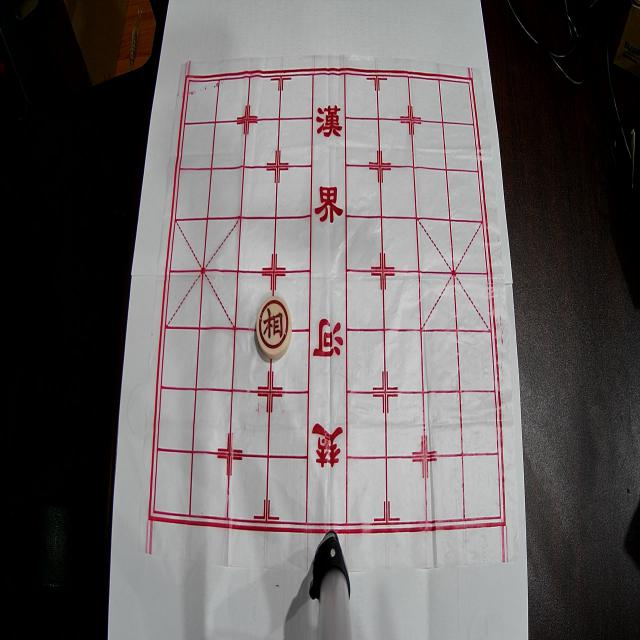red-elephant: (256, 296, 292, 359)
